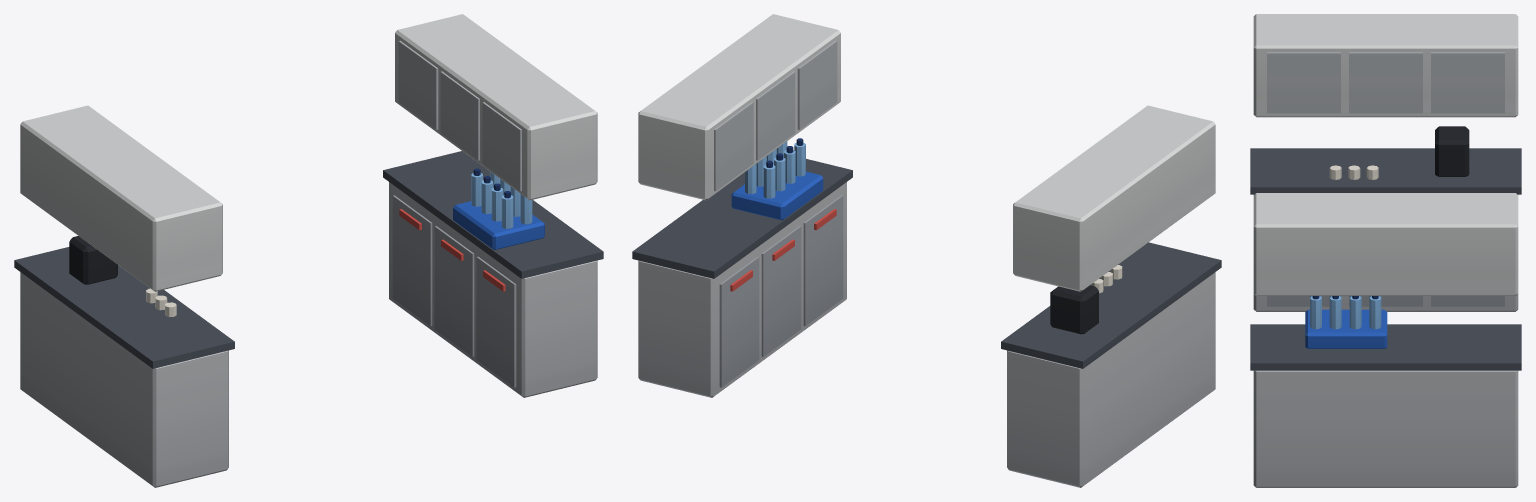
Rendered from Cozinha.fbx.
3 views of the same model, side by side, from view 1: azimuth 30°, elevation 25°; view 2: azimuth 150°, elevation 25°; view 3: azimuth 270°, elevation 25° (orthographic). The views are drawn at different scales.
Visible parts, largest first — view 1: Cozinha_Malha; view 2: Cozinha_Malha; view 3: Cozinha_Malha.
Part boxes in pixels (left/top/right/bottom): Cozinha_Malha: left=14, top=14, right=603, bottom=487; Cozinha_Malha: left=632, top=14, right=1221, bottom=487; Cozinha_Malha: left=1250, top=14, right=1521, bottom=487.
Bounding box in the file's own units: 3.85 × 2.2 × 2.05.
